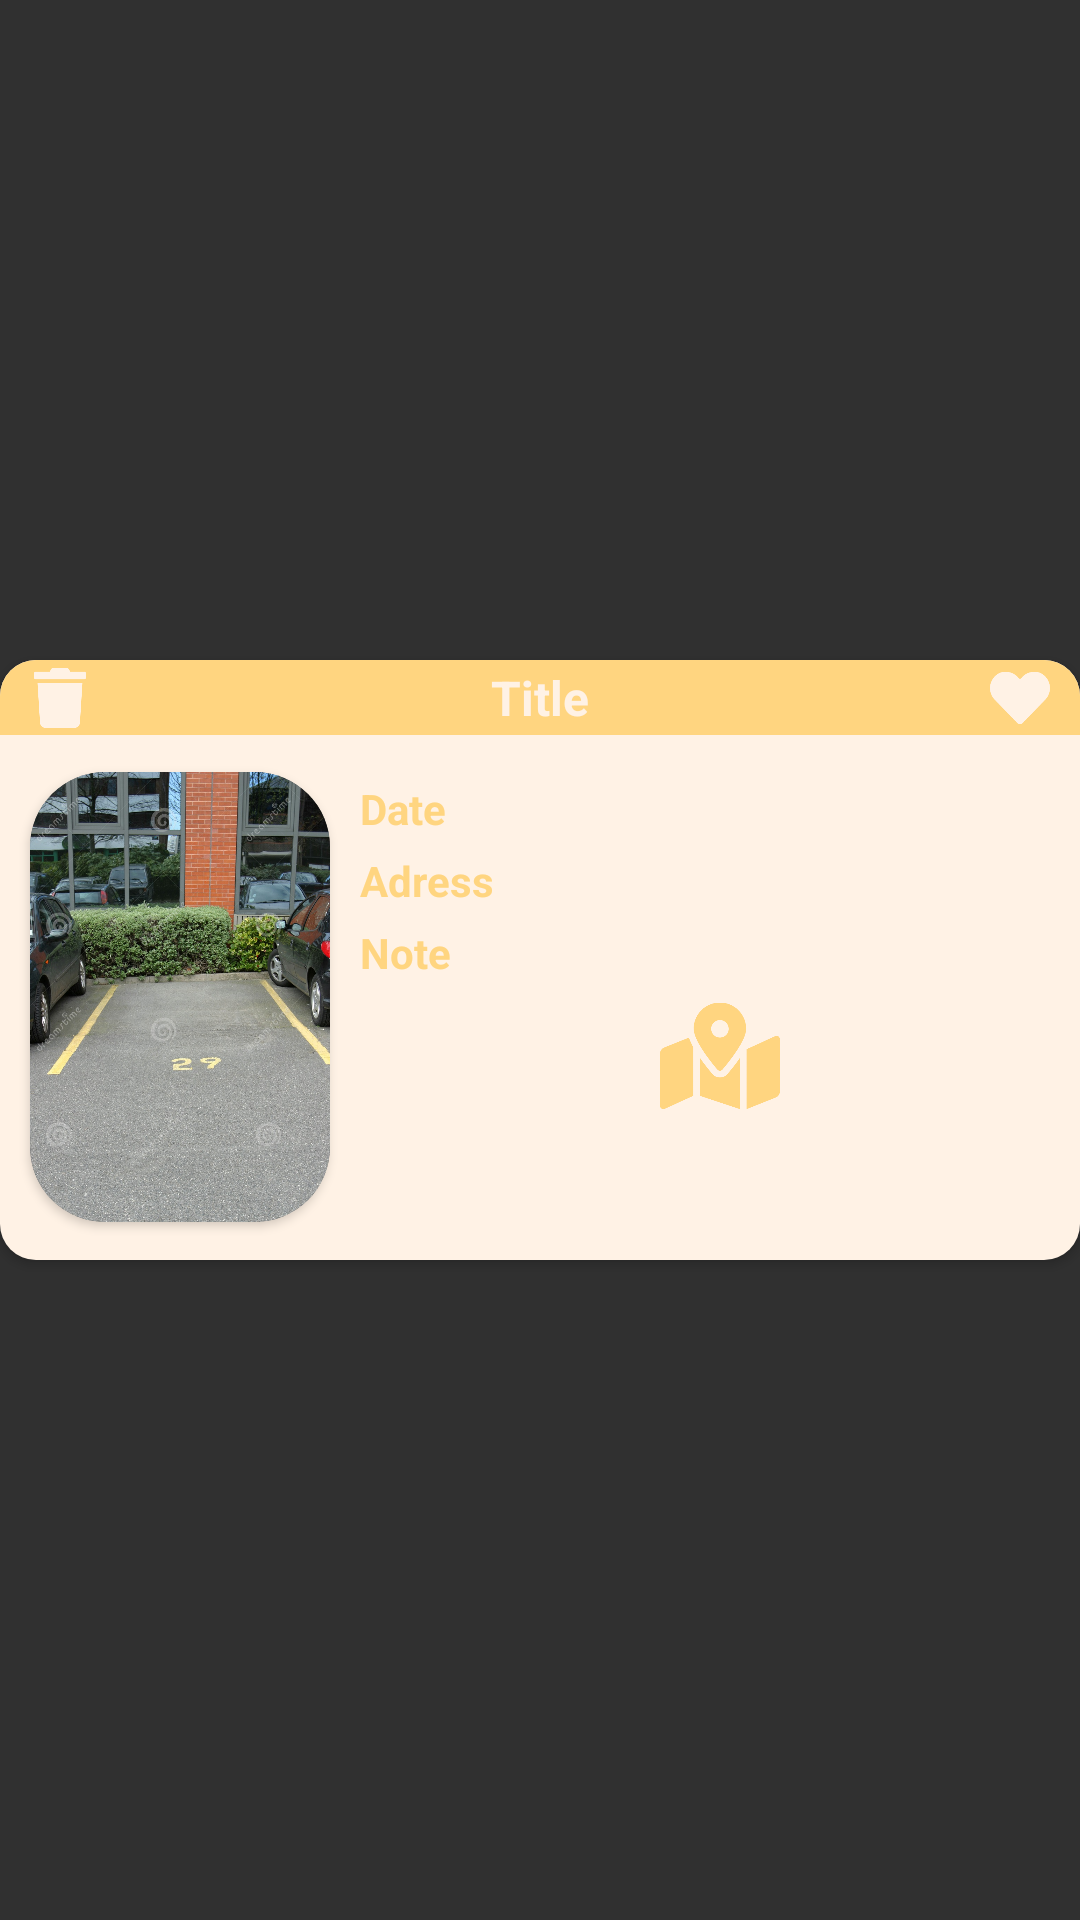

Point at icon controls on the screen. Image size 1080*1920, points as (x=x, y=y).
gotomap: (x=720, y=1056)
trashh: (x=60, y=698)
